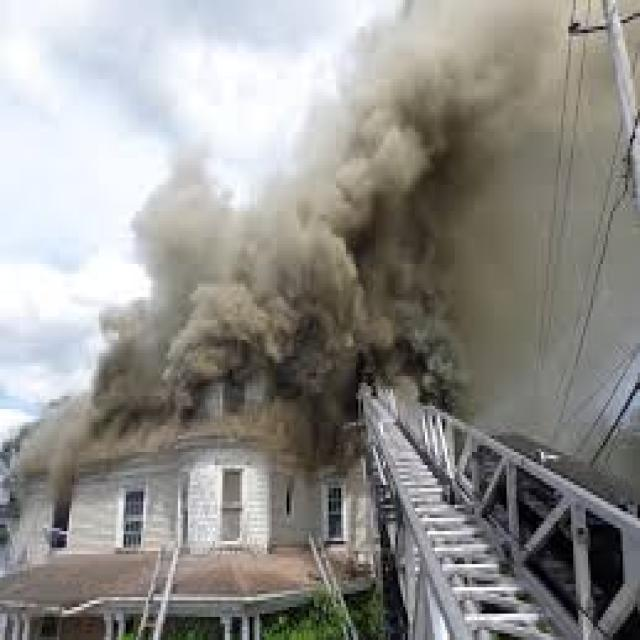Smoke: (20, 0, 640, 488)
